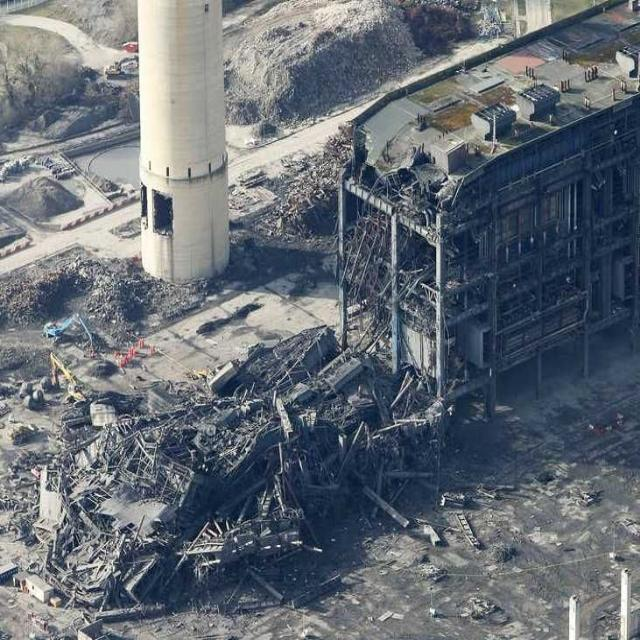collapsed_building: (22, 238, 433, 619)
